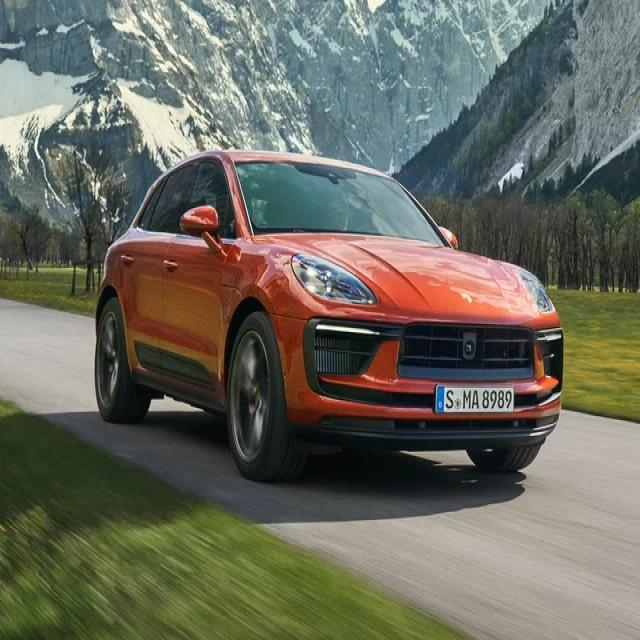car: (93, 148, 564, 483)
